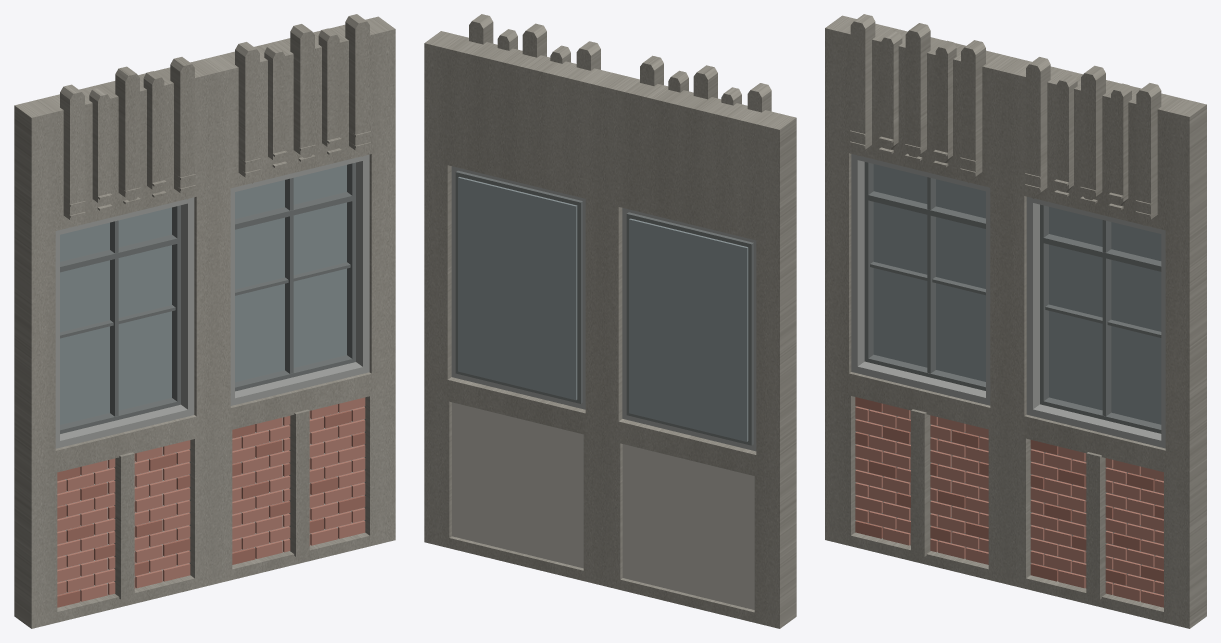
Rendered from huayi-printing-works-fluted-parapet-far.glb.
3 views of the same model, side by side, from view 1: azimuth 30°, elevation 25°; view 2: azimuth 150°, elevation 25°; view 3: azimuth 330°, elevation 25° (orthographic). The views are drawn at different scales.
Parts seen in each view (by area): view 1: 华一印刷股份有限公司旧址竖槽女儿墙与砖填窗间; view 2: 华一印刷股份有限公司旧址竖槽女儿墙与砖填窗间; view 3: 华一印刷股份有限公司旧址竖槽女儿墙与砖填窗间.
Boxes of the visible parts, x1=… form: 华一印刷股份有限公司旧址竖槽女儿墙与砖填窗间: x1=14, y1=14, x2=395, y2=628; 华一印刷股份有限公司旧址竖槽女儿墙与砖填窗间: x1=424, y1=14, x2=796, y2=628; 华一印刷股份有限公司旧址竖槽女儿墙与砖填窗间: x1=825, y1=14, x2=1206, y2=628.
Size of the model in its own units: 2.08 by 2.92 by 0.242.
Materials: 7 (1 with a texture image).
